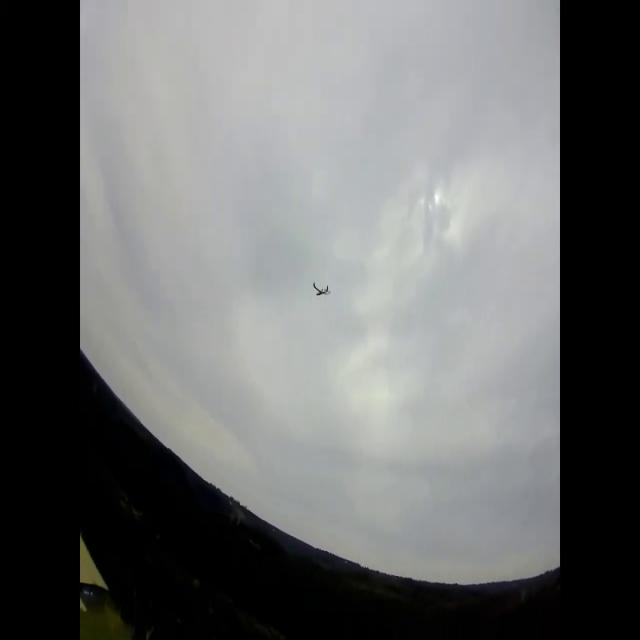iha: (314, 281, 330, 299)
